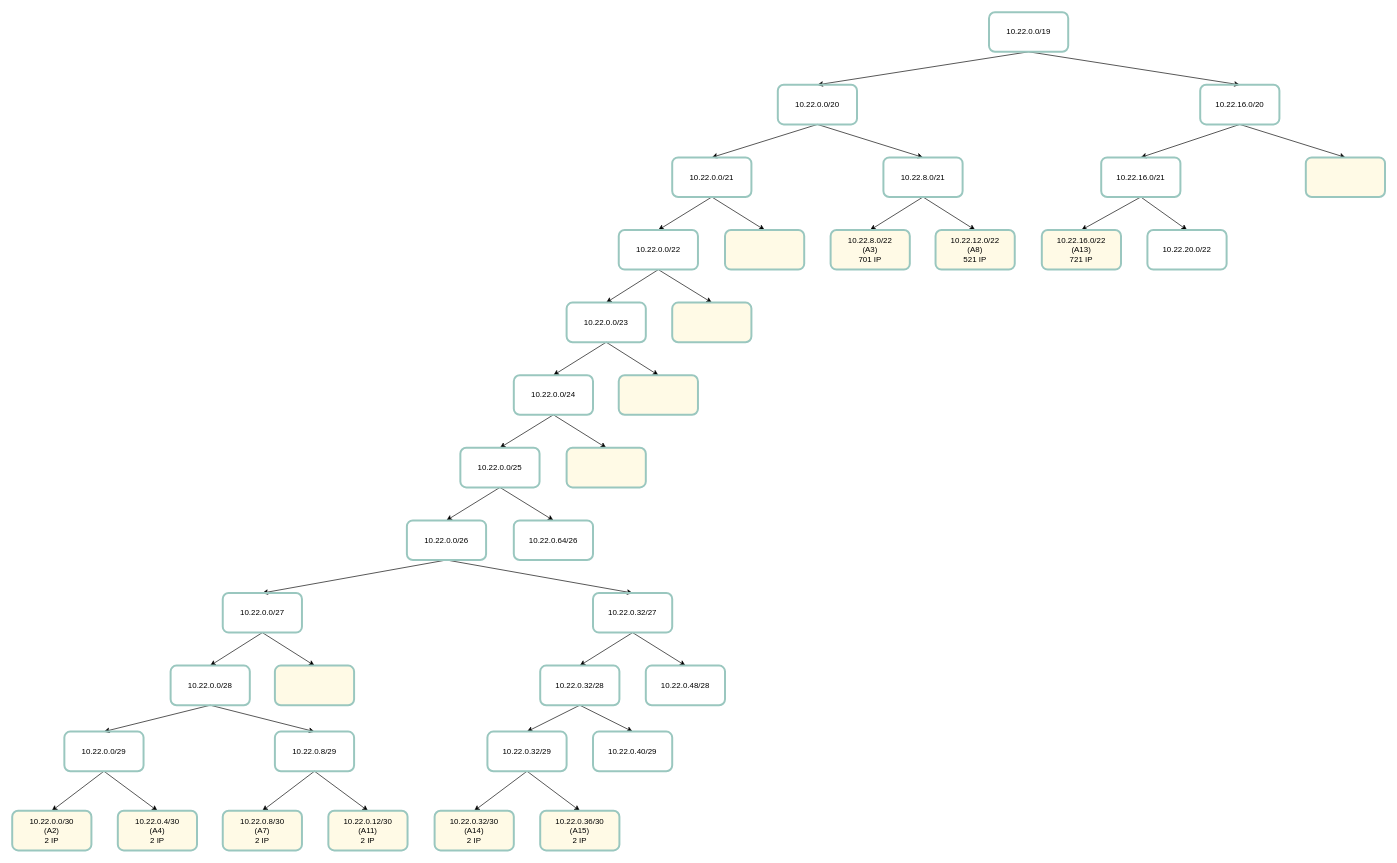
Image size: 1397x863. Some labels were removed from this diagram. Here are the shapes that lost their labels. From the top down, the centre of each, then its label:
At pixel 1345 177: "10.22.24.0/21 (A6) 2021 IP".
At pixel 764 249: "10.22.4.0/22 (A1) 1001 IP".
At pixel 711 322: "10.22.2.0/23 (A9) 502 IP".
At pixel 658 394: "10.22.1.0/24 (A12) 252 IP".
At pixel 605 467: "10.22.0.128/25 (A5) 101 IP".
At pixel 314 685: "10.22.0.16/28 (A10) 13 IP".
